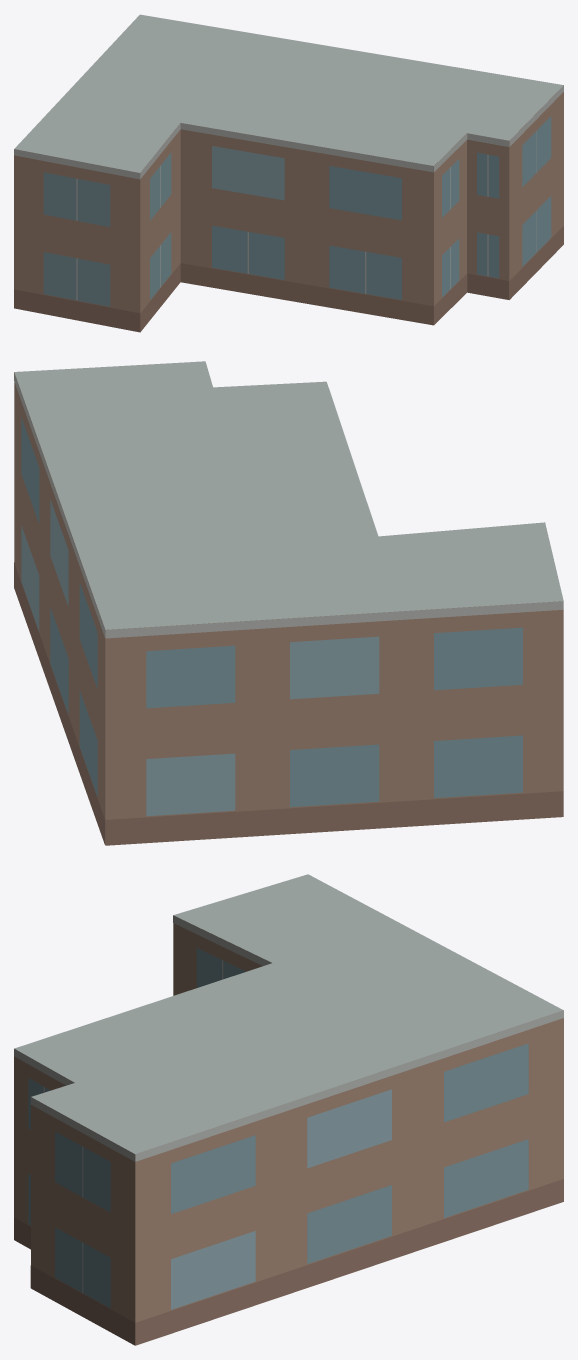
File: survey-upis-32764774.glb
The picture shows the model from 3 angles, top to bottom: view 1: azimuth 30°, elevation 25°; view 2: azimuth 150°, elevation 25°; view 3: azimuth 270°, elevation 25°; orthographic projection. The views are drawn at different scales.
Parts seen in each view (by area): view 1: survey-upis-32764774.tmp; view 2: survey-upis-32764774.tmp; view 3: survey-upis-32764774.tmp.
Part boxes in pixels (x1,y1,x2,y2): survey-upis-32764774.tmp: (14, 14, 563, 332); survey-upis-32764774.tmp: (14, 361, 563, 845); survey-upis-32764774.tmp: (14, 874, 563, 1345).
Size of the model in its own units: 19.15 by 6.1 by 15.88.
